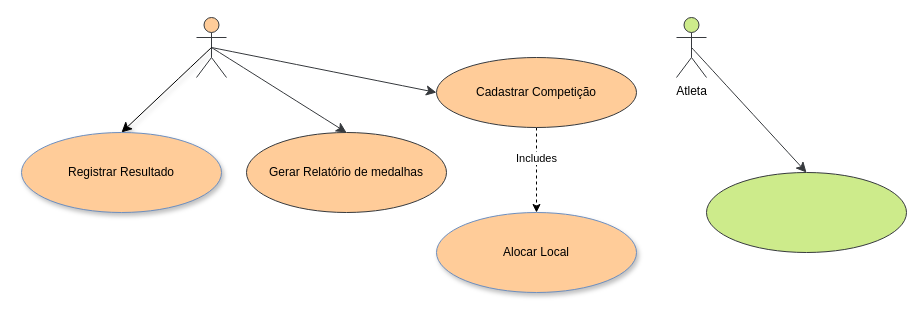
This 924x317 diagram has some shape labels left out. The shapes that lost their labels are listed below. From the top down, each one's centre as x and y in pixels, then its label:
the point at 211,47: Organizador
the point at 806,212: Inscrever Atleta
